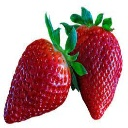strawberry: (3, 34, 71, 126), (67, 18, 123, 121)
